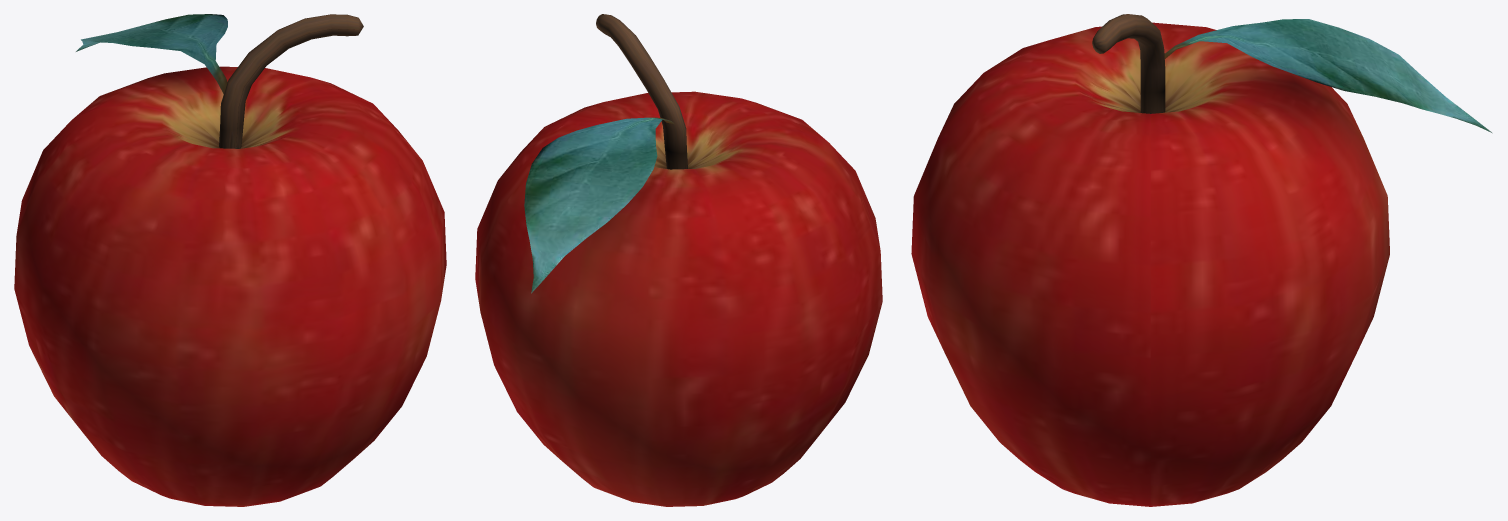
The model's file is apple.glb.
The picture shows the model from 3 angles, left to right: view 1: azimuth 30°, elevation 25°; view 2: azimuth 150°, elevation 25°; view 3: azimuth 270°, elevation 25°; orthographic projection. The views are drawn at different scales.
Visible parts, largest first — view 1: Apple, Branch, Leaf; view 2: Apple, Leaf, Branch; view 3: Apple, Leaf, Branch.
Part boxes in pixels (x1=…): Apple: x1=14, y1=66, x2=446, y2=506; Branch: x1=219, y1=14, x2=363, y2=148; Leaf: x1=76, y1=14, x2=227, y2=93; Apple: x1=475, y1=91, x2=882, y2=506; Leaf: x1=524, y1=117, x2=675, y2=293; Branch: x1=596, y1=14, x2=687, y2=169; Apple: x1=911, y1=22, x2=1389, y2=506; Leaf: x1=1164, y1=19, x2=1492, y2=133; Branch: x1=1092, y1=14, x2=1165, y2=113.
Bounding box in the file's own units: 0.1113 × 0.1261 × 0.1353.
3 materials, 3 textured.
